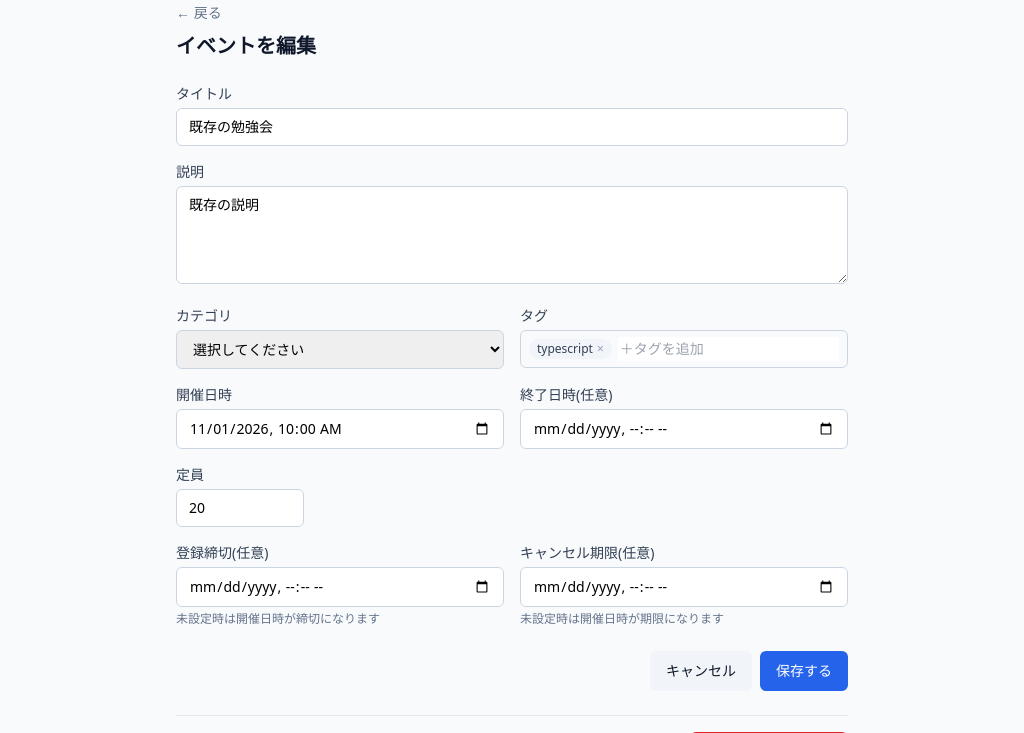
EventEditPage › hasRegisteredParticipants: trueで更新した場合、M-08警告モーダルが自動表示される
This screenshot has width=1024, height=733.
Expected: the field labelled "タイトル" is shown, [176,108,848,146]
Click the button "保存する": (804, 671) [760,651,848,691]
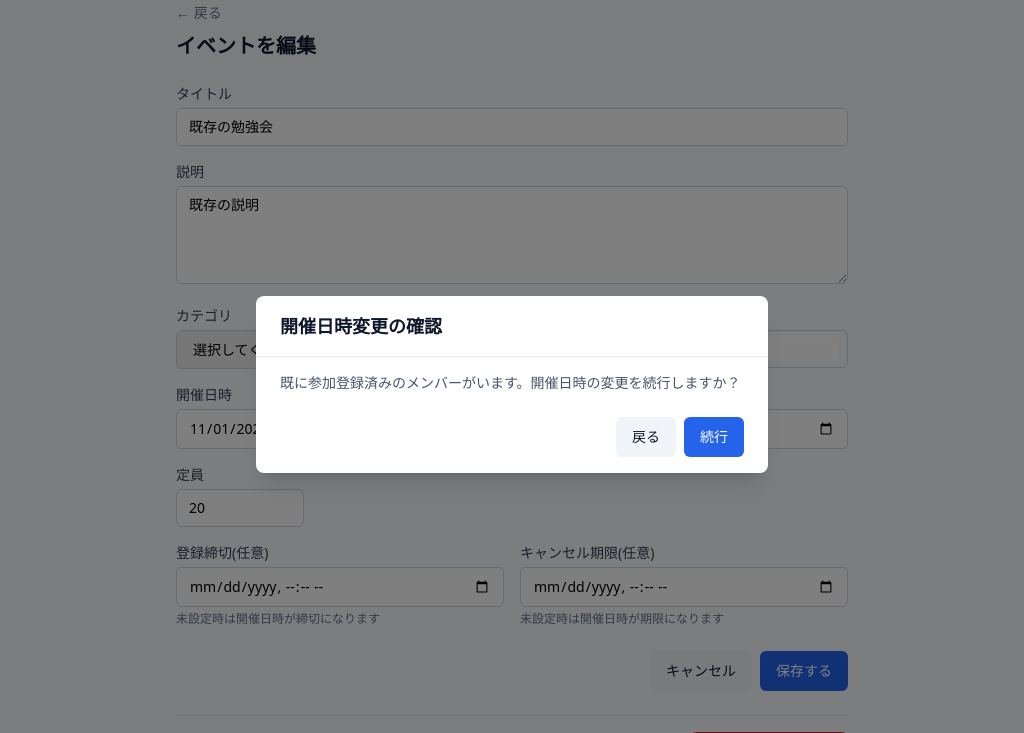
Expected: the text "既に参加登録済みのメンバーがいます。開催日時の変更を続行しますか？" is shown, [280,372,744,392]
